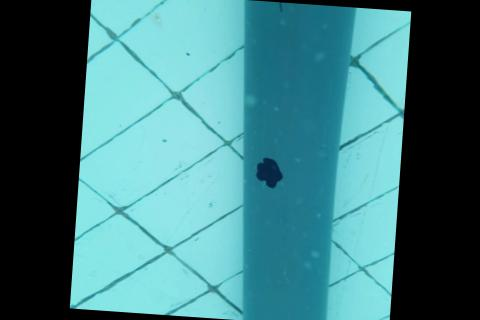kebocoran: (253, 155, 285, 188)
